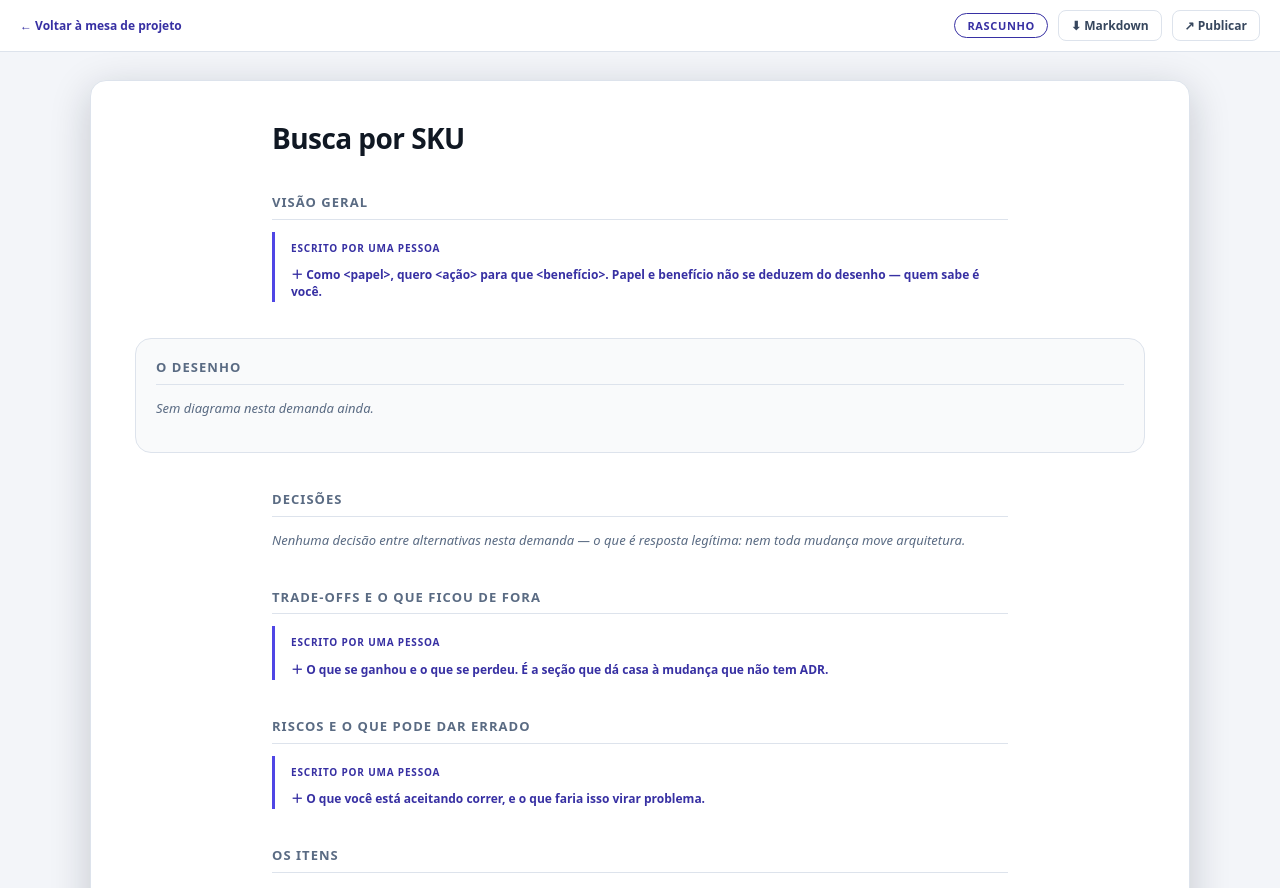
Test: publicar o documento (SPEC-81 fatia B) › com destino, publica e deixa o LINK na tela
What coordinates should you click on to do the following:
click the button with test id "publicar-documento"
I would click on:
 (1216, 26)
Its box is [1172,10,1260,41].
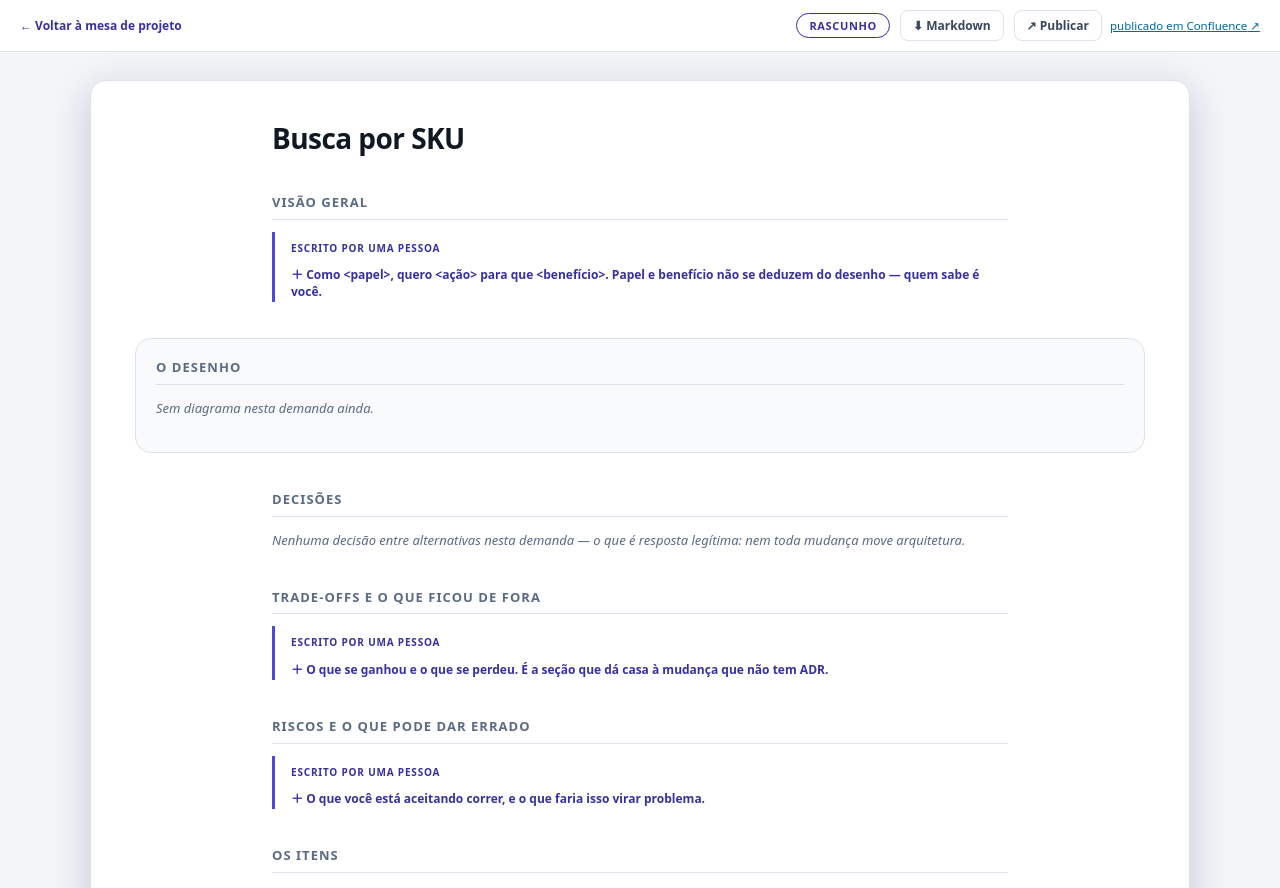
Result: the link with test id "documento-publicado" shows "Confluence" at [1110,18,1260,33]
